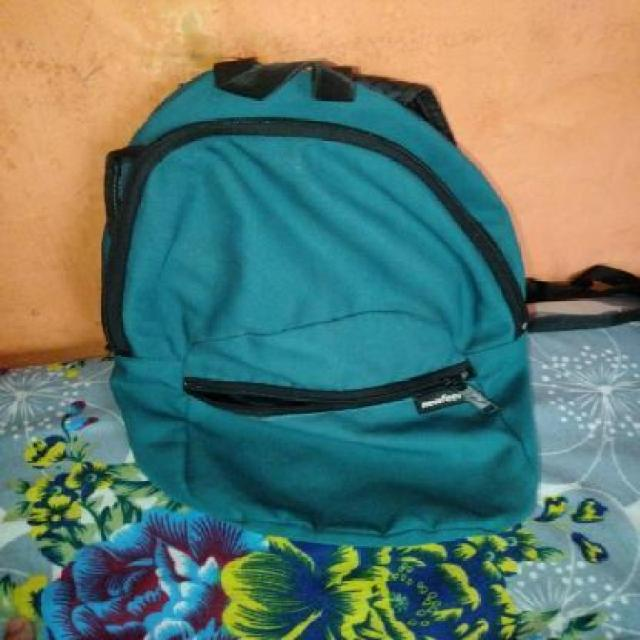backpack: (97, 56, 545, 550)
